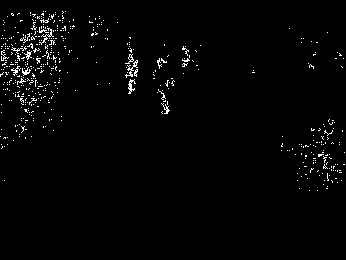person: (151, 57, 178, 116)
